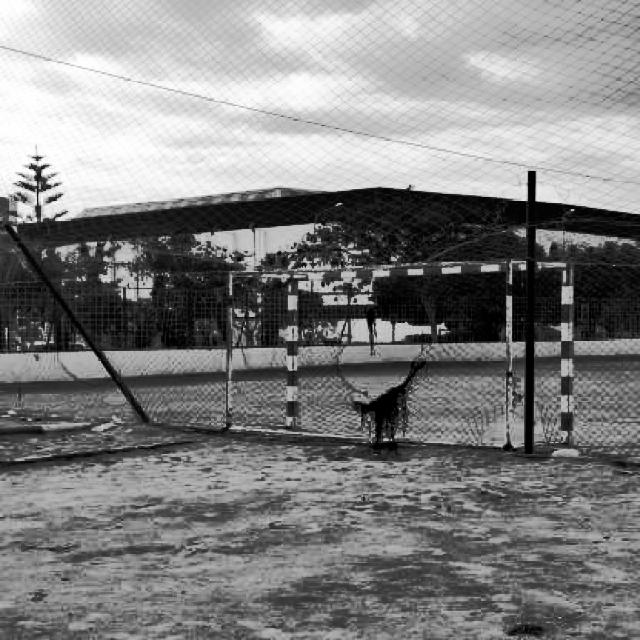anomaly-fence: (242, 229, 563, 483)
